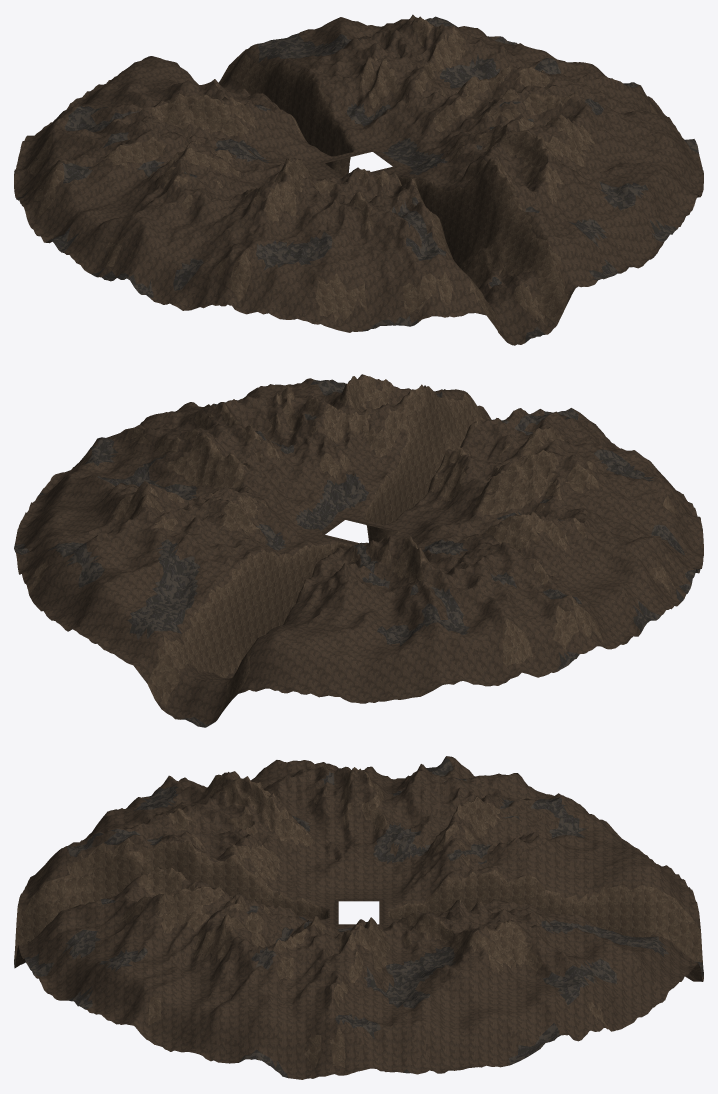
The model's file is backdrop_near_rect_briarE_dead.glb.
The picture shows the model from 3 angles, top to bottom: view 1: azimuth 30°, elevation 25°; view 2: azimuth 150°, elevation 25°; view 3: azimuth 270°, elevation 25°; orthographic projection.
Visible parts, largest first — view 1: near_land_S, near_land_W, near_land_E, near_land_N; view 2: near_land_N, near_land_W, near_land_E, near_land_S; view 3: near_land_E, near_land_S, near_land_N, near_land_W.
Boxes of the visible parts, bbox=[...] form: near_land_S: bbox=[269, 117, 692, 345]; near_land_W: bbox=[14, 93, 339, 314]; near_land_E: bbox=[367, 16, 703, 210]; near_land_N: bbox=[26, 14, 440, 176]; near_land_N: bbox=[26, 499, 447, 727]; near_land_W: bbox=[392, 449, 703, 686]; near_land_E: bbox=[14, 384, 351, 583]; near_land_S: bbox=[278, 374, 687, 541]; near_land_E: bbox=[116, 897, 603, 1079]; near_land_S: bbox=[14, 797, 335, 1023]; near_land_N: bbox=[384, 799, 703, 1031]; near_land_W: bbox=[142, 756, 602, 902].
Size of the model in its own units: 576 by 168 by 576.
3 materials, 3 textured.
